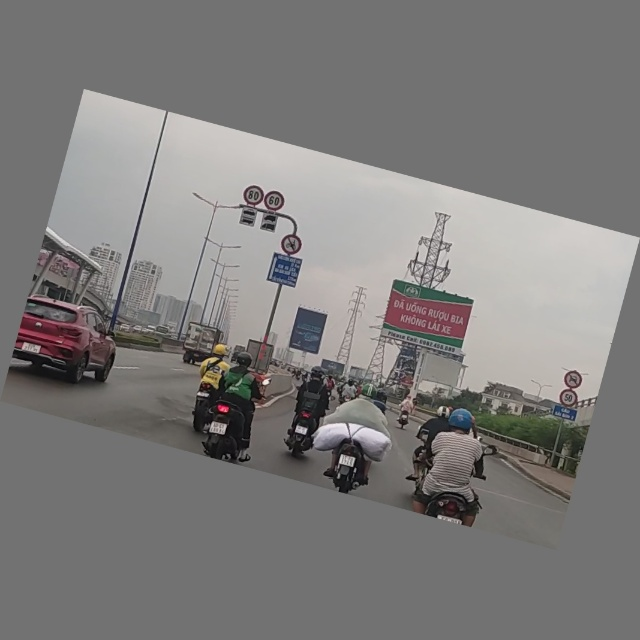P.103a: (563, 369, 585, 392)
P.104: (279, 232, 305, 257)
P.127*50: (558, 389, 581, 411)
P.127*60: (262, 189, 286, 213)
P.127*80: (240, 183, 265, 208)
